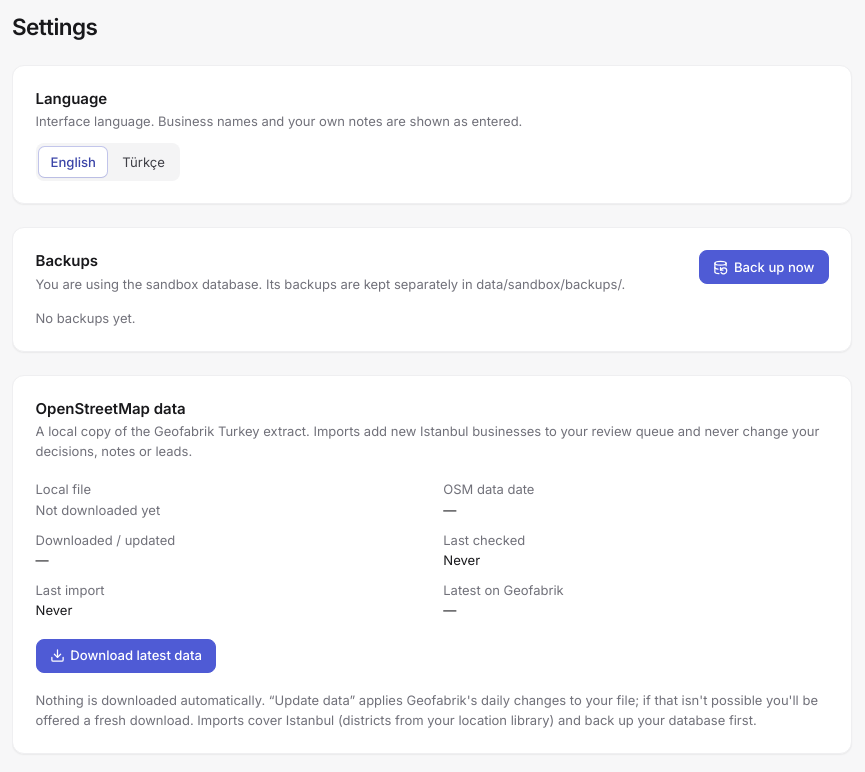
switching language › Settings offers the language choice and translates its sections
Step 1. Click the radio button labelled "Türkçe" → (144, 162), box [111,147,176,177]
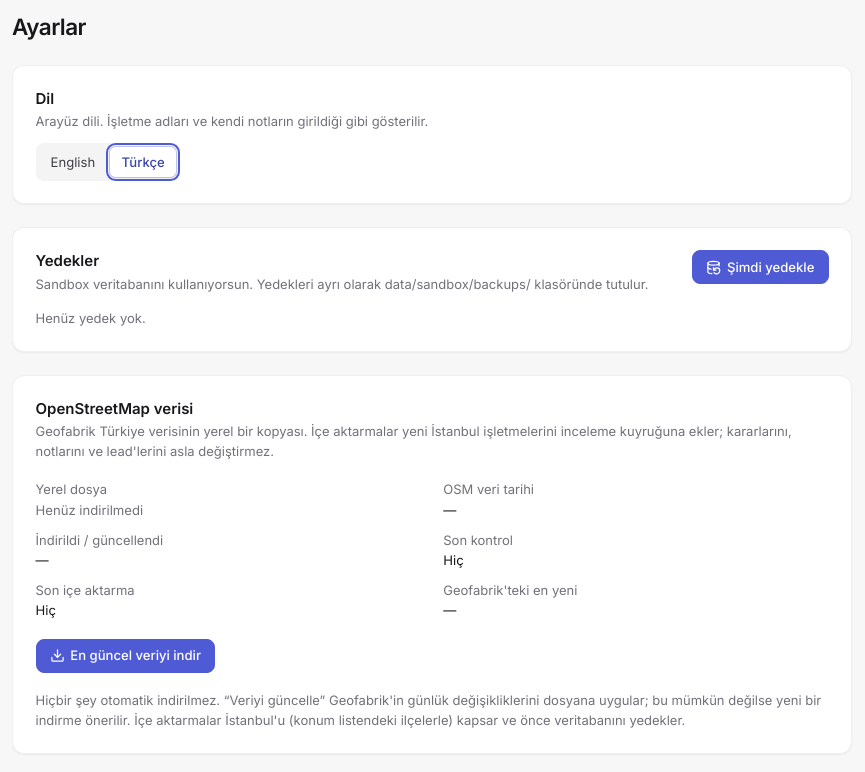
expect the heading "Ayarlar" is shown: met, box [12,12,86,42]
expect the heading "Yedekler" is shown: met, box [36,251,99,270]
